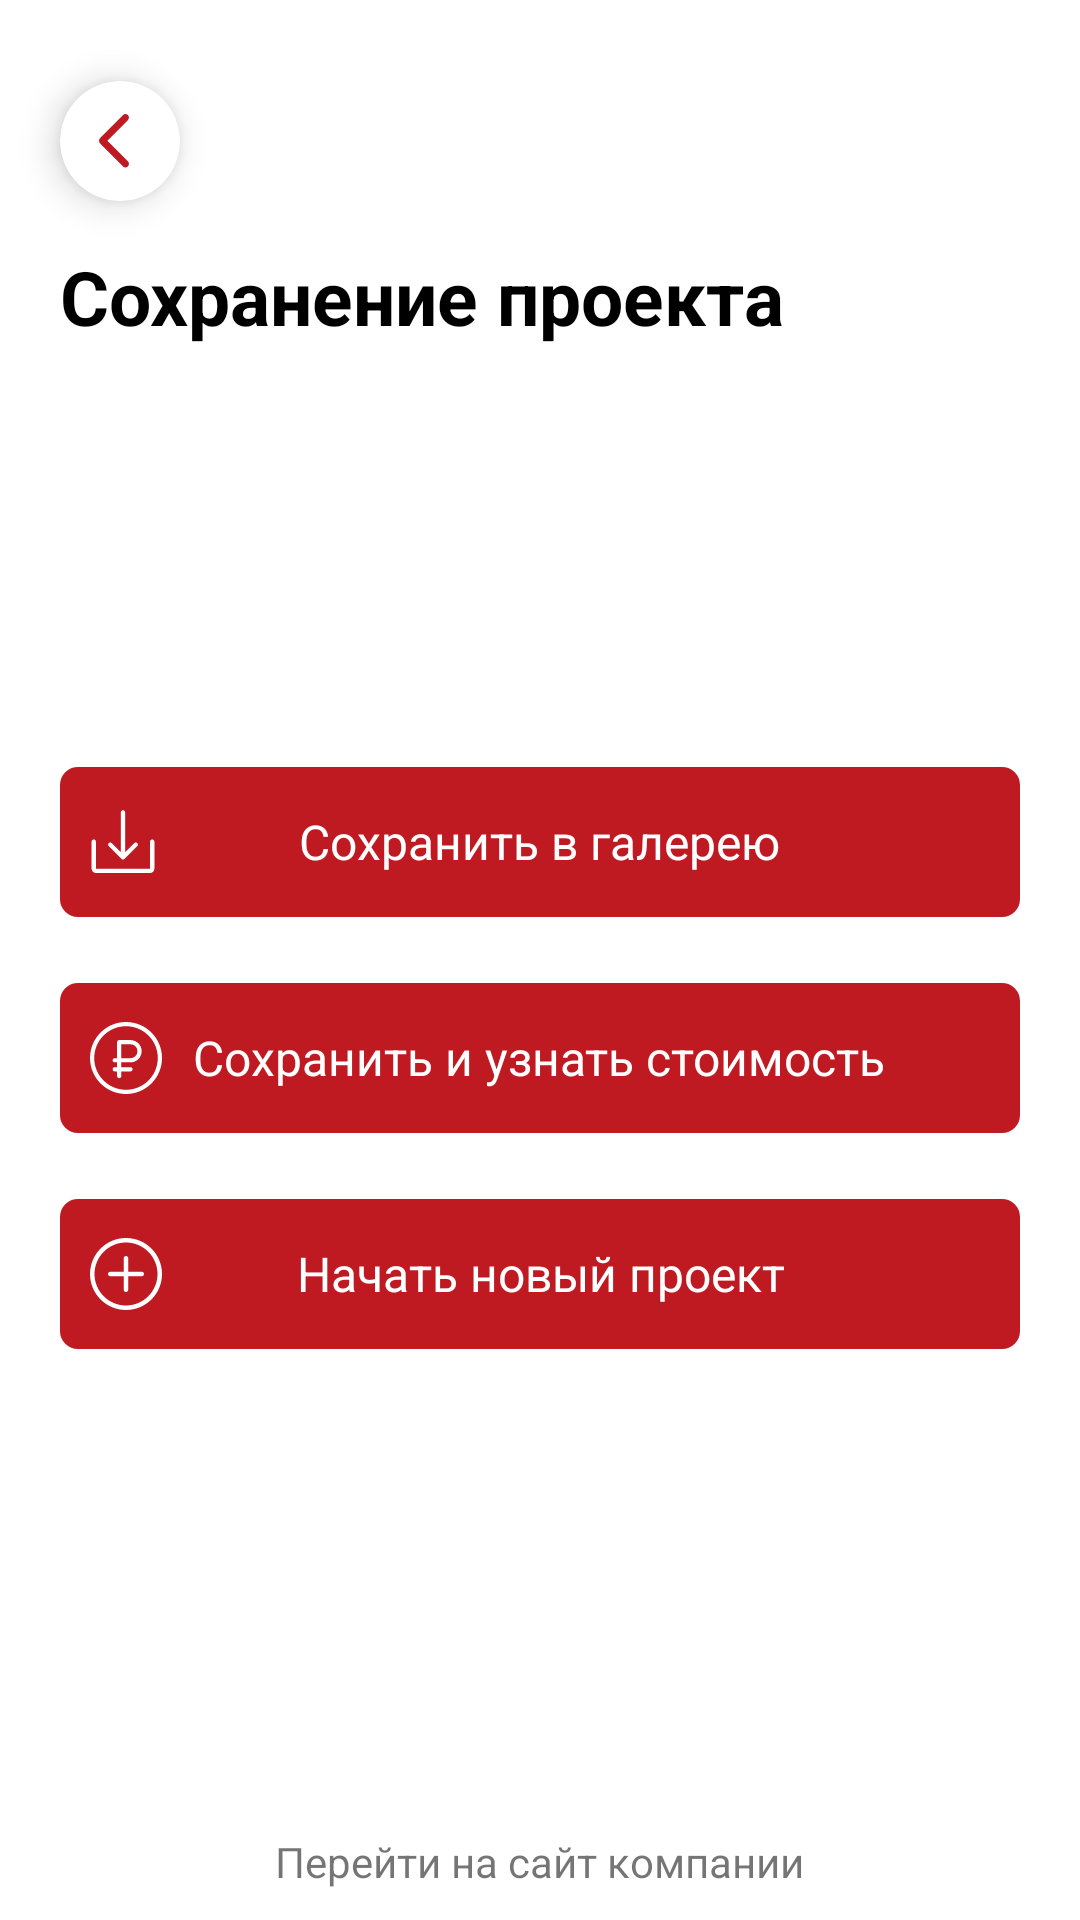

Icon bounding boxes for this 1080*1920 phone screenshot, format (x1=x1, y1=y1, x2=x2, y2=y2):
left: (x1=99, y1=114, x2=129, y2=168)
plus: (x1=90, y1=1238, x2=162, y2=1310)
ruble: (x1=90, y1=1022, x2=162, y2=1094)
save gallery: (x1=91, y1=810, x2=155, y2=873)
